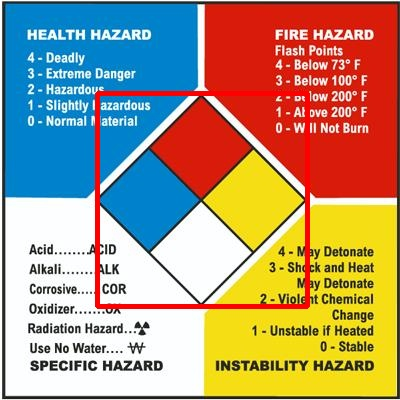nfpa: (97, 93, 307, 306)
